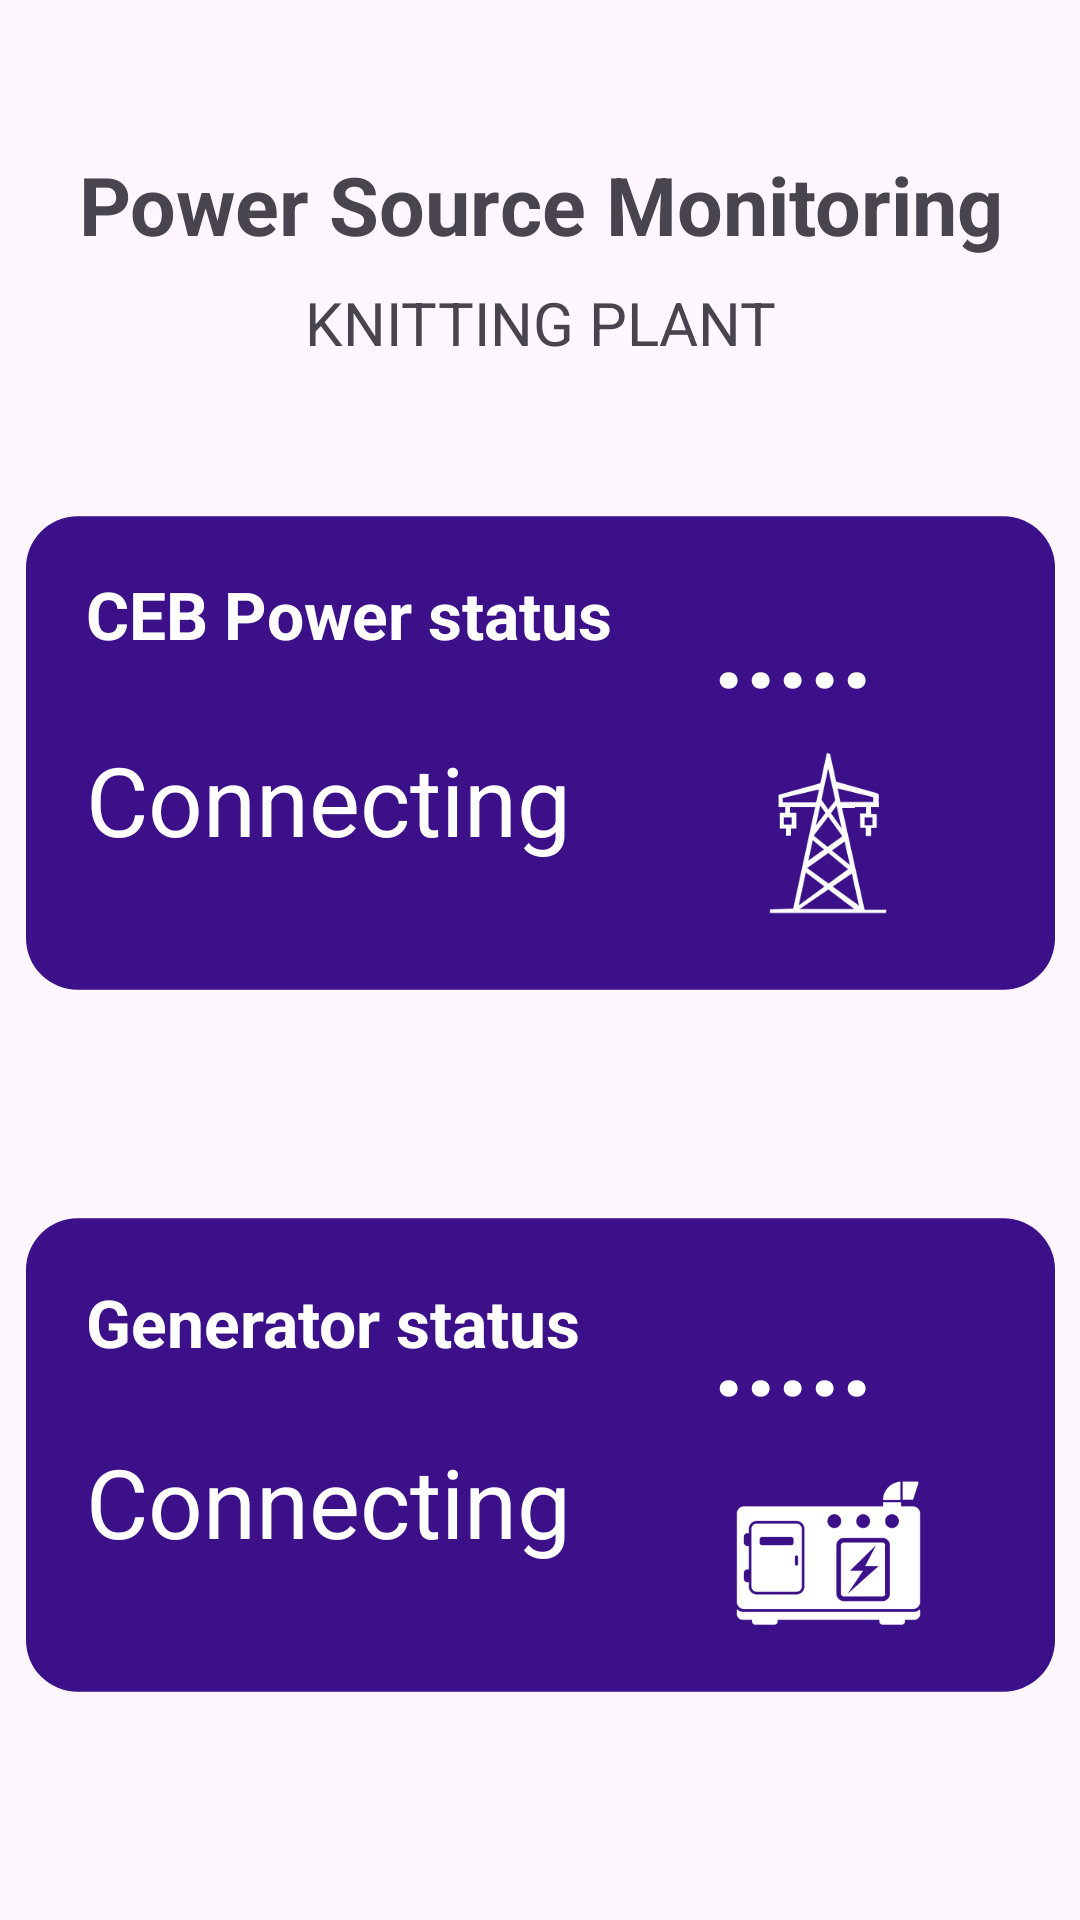

Icon bounding boxes for this 1080w x 1920h phone screenshot, format (x1, y1, x2, y2):
elec: (769, 753, 887, 914)
gen: (736, 1481, 921, 1625)
